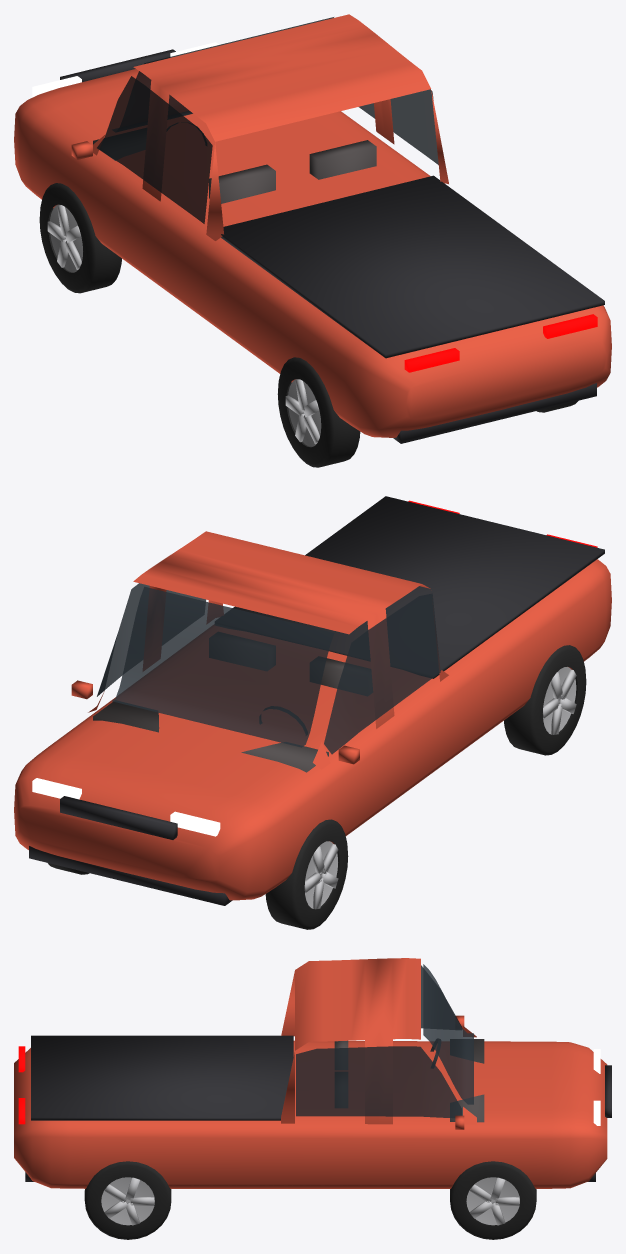
The model's file is tr06_pickup.glb.
The picture shows the model from 3 angles, top to bottom: view 1: azimuth 30°, elevation 25°; view 2: azimuth 150°, elevation 25°; view 3: azimuth 270°, elevation 25°; orthographic projection. The views are drawn at different scales.
Visible parts, largest first — view 1: tr06_pickup_Body, tr06_pickup_Cabin, tr06_pickup_Glass, tr06_pickup_Wheel_RL, tr06_pickup_Wheel_FL, tr06_pickup_Interior, tr06_pickup_Lights_Rear, tr06_pickup_GlassFront, tr06_pickup_Lights_Front; view 2: tr06_pickup_Body, tr06_pickup_GlassFront, tr06_pickup_Cabin, tr06_pickup_Glass, tr06_pickup_Interior, tr06_pickup_Wheel_FL, tr06_pickup_Wheel_RL, tr06_pickup_Lights_Front; view 3: tr06_pickup_Body, tr06_pickup_Cabin, tr06_pickup_Glass, tr06_pickup_Wheel_RR, tr06_pickup_Wheel_FR, tr06_pickup_GlassFront, tr06_pickup_Interior, tr06_pickup_Lights_Rear.
Boxes of the visible parts, x1,y1,x2,y2 form: tr06_pickup_Body: (14,49,611,443); tr06_pickup_Cabin: (93,14,448,240); tr06_pickup_Glass: (97,76,438,223); tr06_pickup_Wheel_RL: (277,357,360,467); tr06_pickup_Wheel_FL: (39,183,121,293); tr06_pickup_Interior: (93,128,376,203); tr06_pickup_Lights_Rear: (404,314,597,372); tr06_pickup_GlassFront: (116,17,333,131); tr06_pickup_Lights_Front: (32,42,219,97); tr06_pickup_Body: (14,496,611,905); tr06_pickup_GlassFront: (112,586,334,747); tr06_pickup_Cabin: (88,531,448,769); tr06_pickup_Glass: (97,583,440,754); tr06_pickup_Interior: (93,632,372,772); tr06_pickup_Wheel_FL: (265,819,348,929); tr06_pickup_Wheel_RL: (504,645,586,755); tr06_pickup_Lights_Front: (32,778,220,836); tr06_pickup_Body: (14,1015,611,1188); tr06_pickup_Cabin: (281,958,476,1124); tr06_pickup_Glass: (296,965,461,1118); tr06_pickup_Wheel_RR: (84,1161,171,1239); tr06_pickup_Wheel_FR: (450,1161,536,1239); tr06_pickup_GlassFront: (423,964,473,1104); tr06_pickup_Interior: (334,1039,484,1122); tr06_pickup_Lights_Rear: (18,1046,25,1124).
Size of what is drawn, in the model's own units: 2.19 by 1.88 by 5.24.
